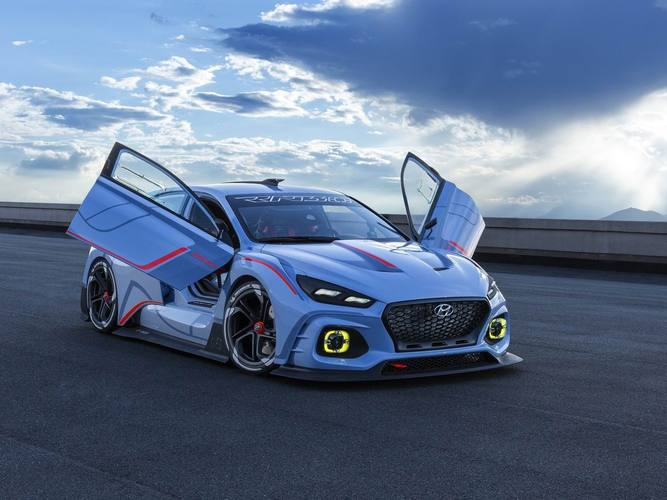汽车: (70, 132, 532, 391)
